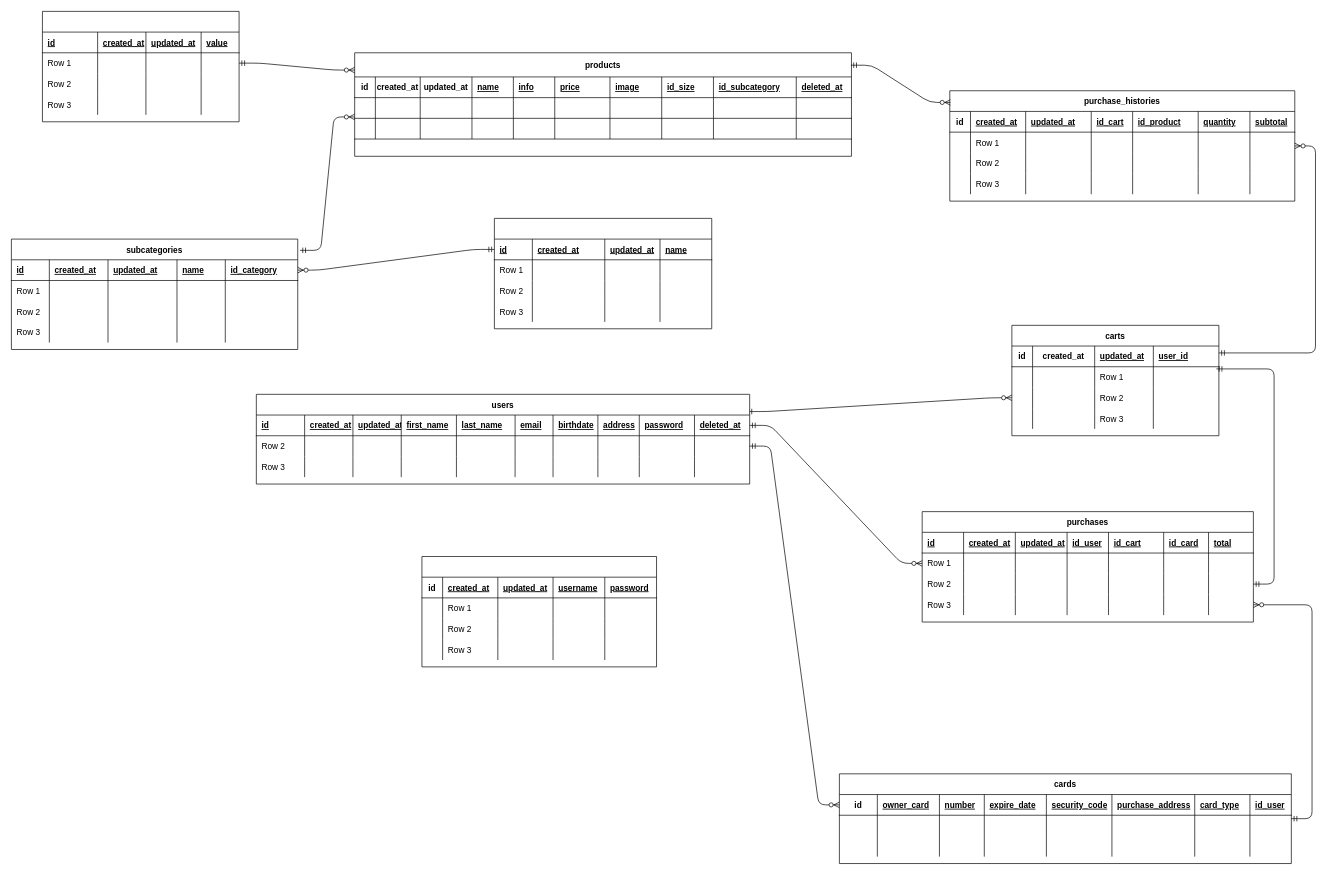
Image size: 1327x875. Some labels were removed from this diagram. The box of each missing label's shape, as (x1, y1, x2, y2) in pixels:
admins: (421, 556, 657, 667)
categories: (494, 218, 712, 329)
sizes: (42, 11, 239, 122)
